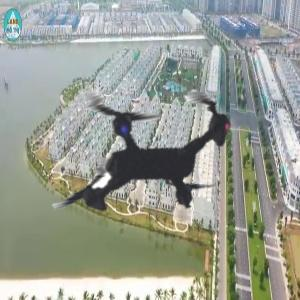drone: (2, 7, 292, 297)
